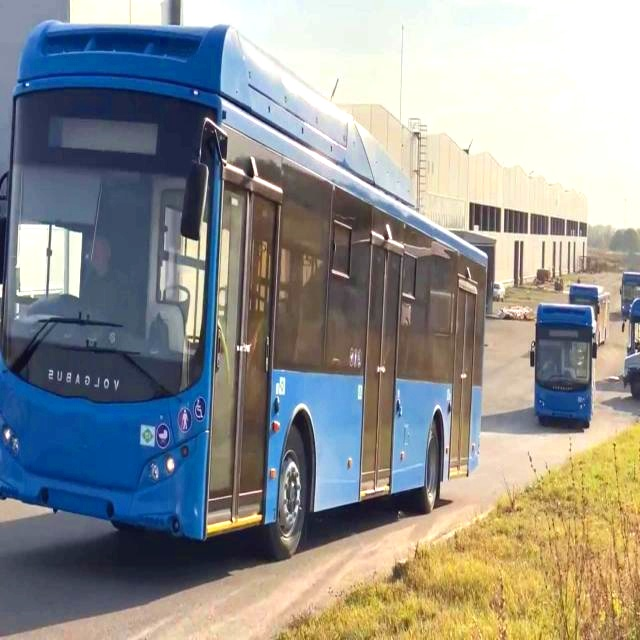bus: (4, 7, 489, 589), (513, 277, 607, 448)
